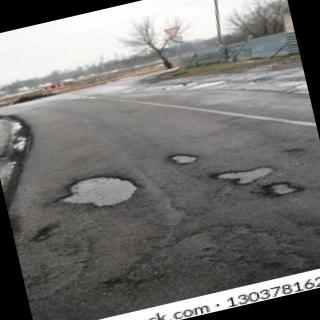pothole: (55, 176, 138, 208), (212, 167, 273, 186), (265, 182, 304, 198), (168, 154, 199, 166)
